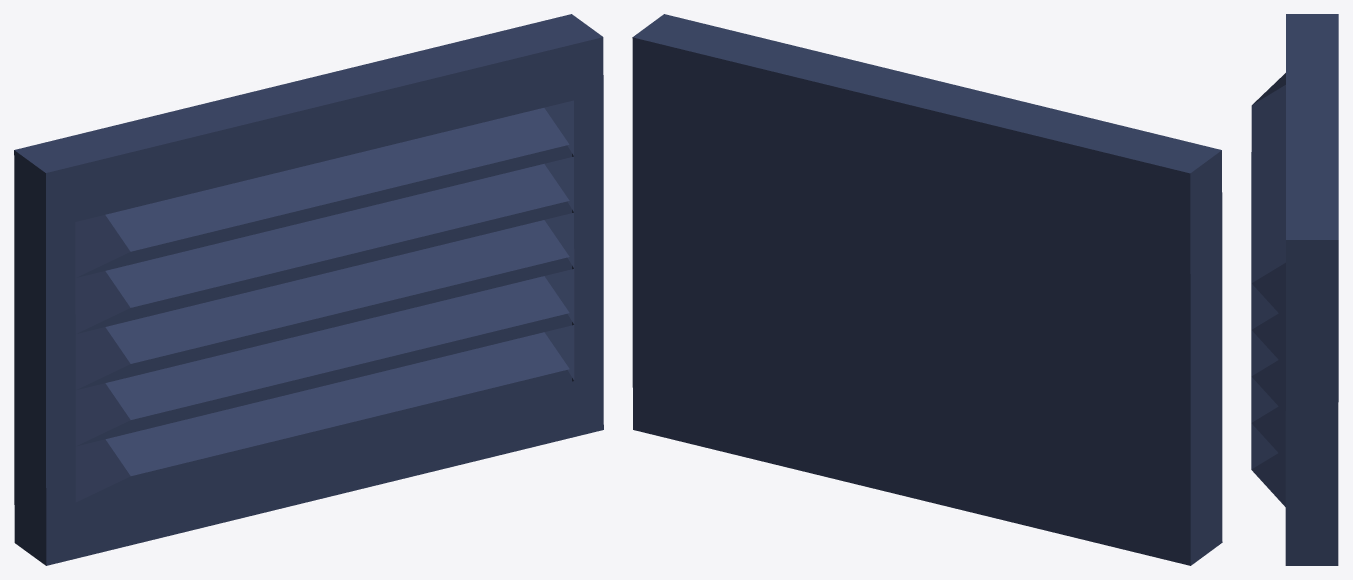
File: vent.fbx
3 renders of one model, left to right at view 1: azimuth 30°, elevation 25°; view 2: azimuth 150°, elevation 25°; view 3: azimuth 270°, elevation 25°, orthographic. The views are drawn at different scales.
Visible parts, largest first — view 1: Cube; view 2: Cube; view 3: Cube.
Boxes of the visible parts, x1=… form: Cube: x1=14, y1=14, x2=603, y2=565; Cube: x1=632, y1=14, x2=1222, y2=565; Cube: x1=1251, y1=14, x2=1338, y2=565.
Size of the model in its own units: 108 by 72.92 by 17.76.
